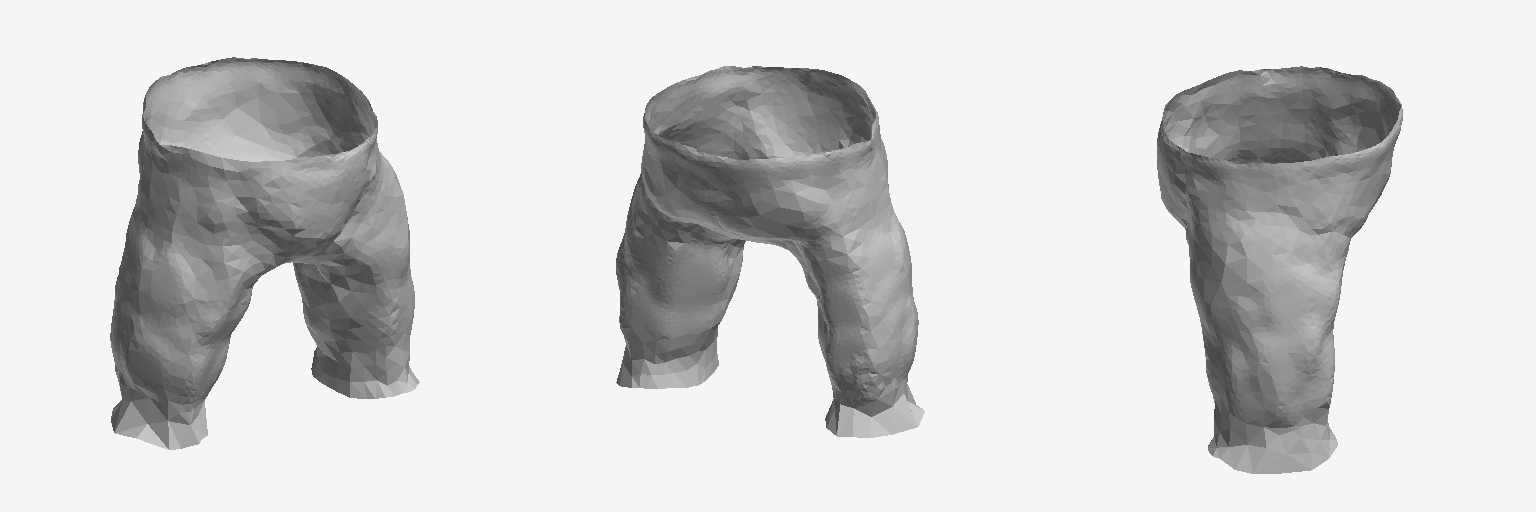
Rendered from Yoda_Trousers_After_Sculp.obj.
3 views of the same model, side by side, from view 1: azimuth 30°, elevation 25°; view 2: azimuth 150°, elevation 25°; view 3: azimuth 270°, elevation 25° (orthographic).
Bounding box in the file's own units: 2.01 × 1.95 × 1.47.